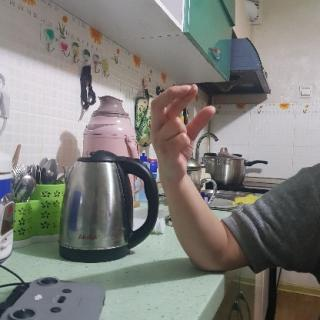DHELL: (145, 74, 219, 183)
